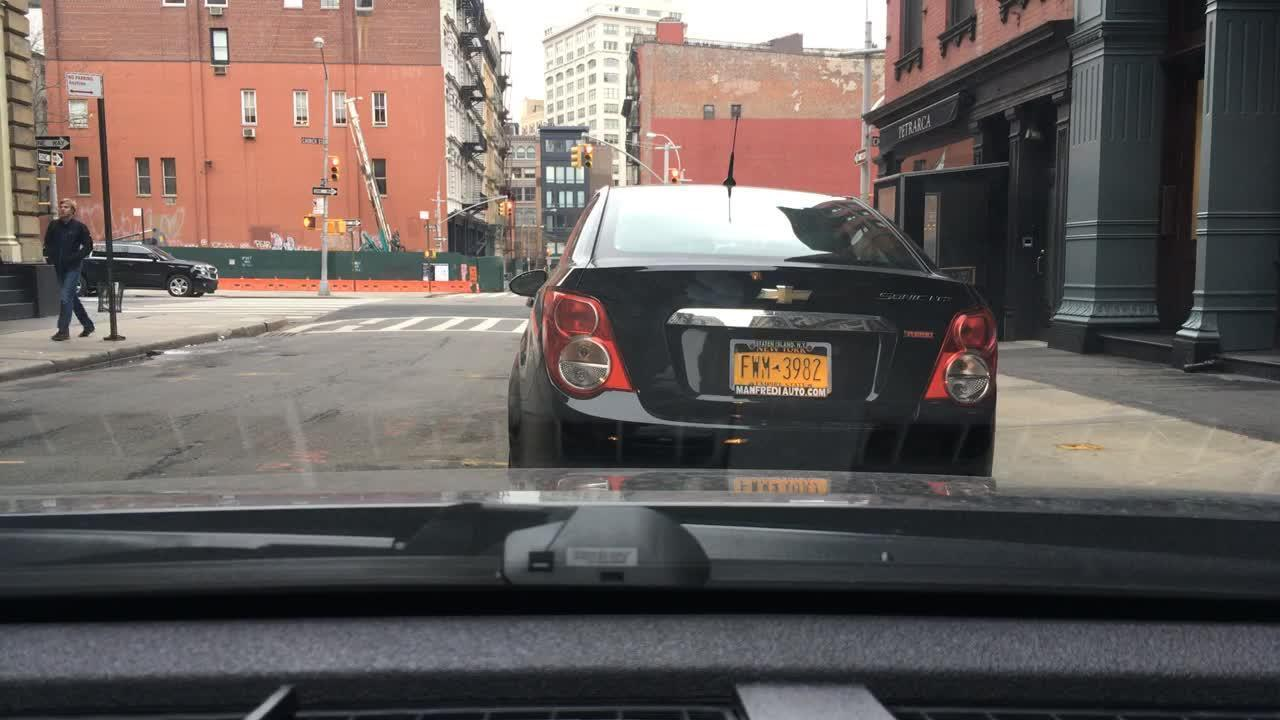chevrolet: (740, 278, 833, 317)
